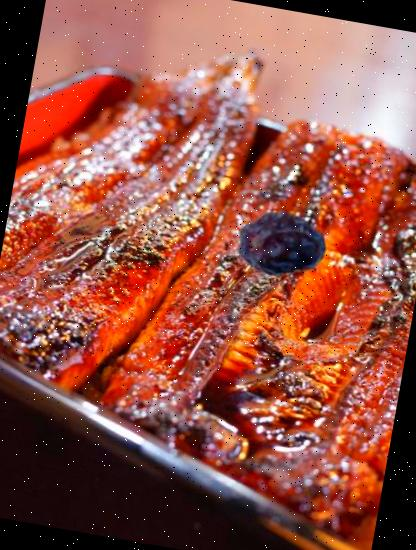Dates: (229, 191, 332, 294)
